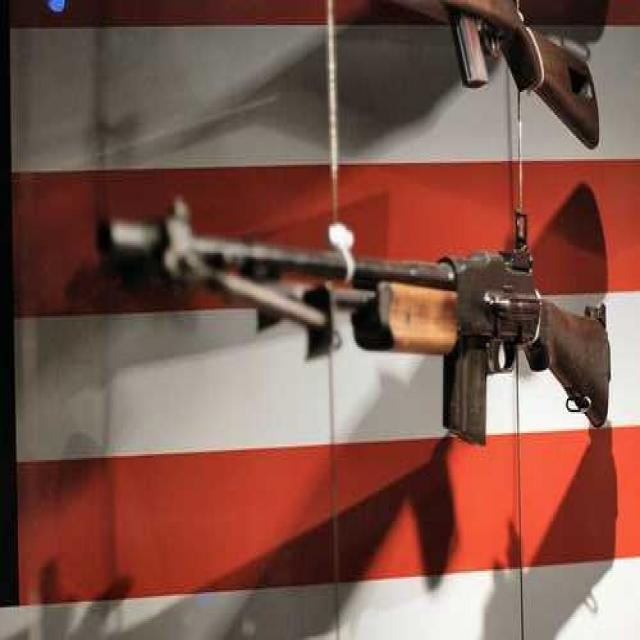weapon: (83, 180, 617, 477)
